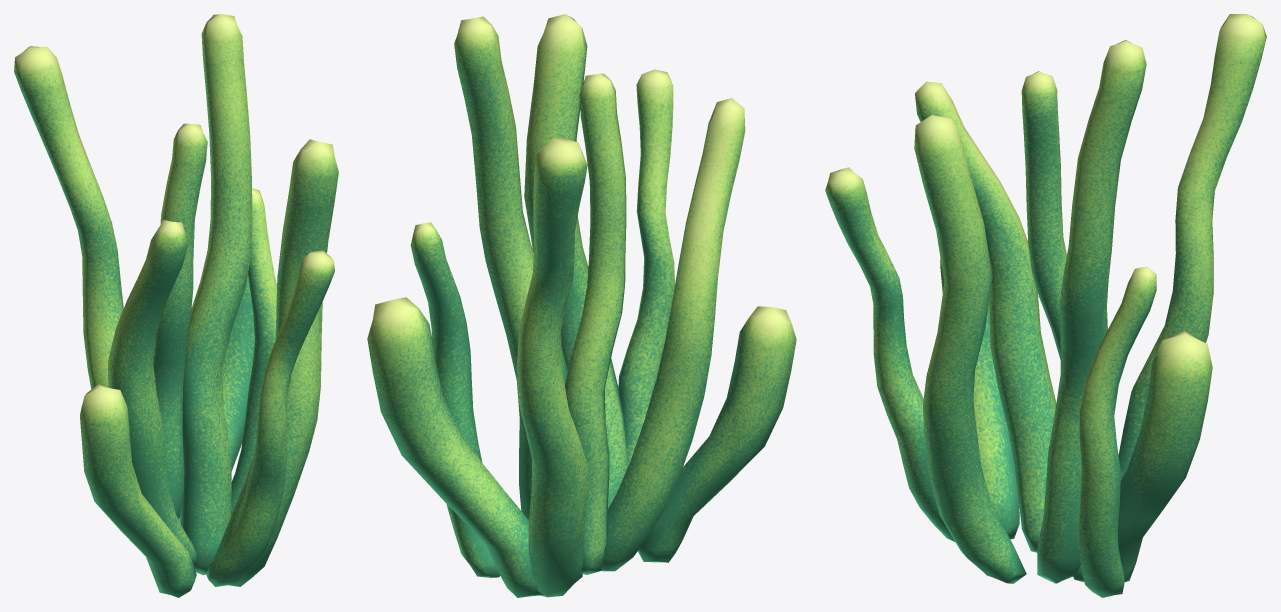
The model's file is shrub-noodle-1b.fbx.
3 renders of one model, left to right at view 1: azimuth 30°, elevation 25°; view 2: azimuth 150°, elevation 25°; view 3: azimuth 270°, elevation 25°, orthographic. The views are drawn at different scales.
Parts seen in each view (by area): view 1: Cube.005; view 2: Cube.005; view 3: Cube.005.
Part boxes in pixels (x1,y1,x2,y2): Cube.005: [14, 14, 338, 597]; Cube.005: [367, 14, 796, 597]; Cube.005: [825, 14, 1266, 597].
Bounding box in the file's own units: 1317 × 2355 × 1656.
1 material, 1 textured.
